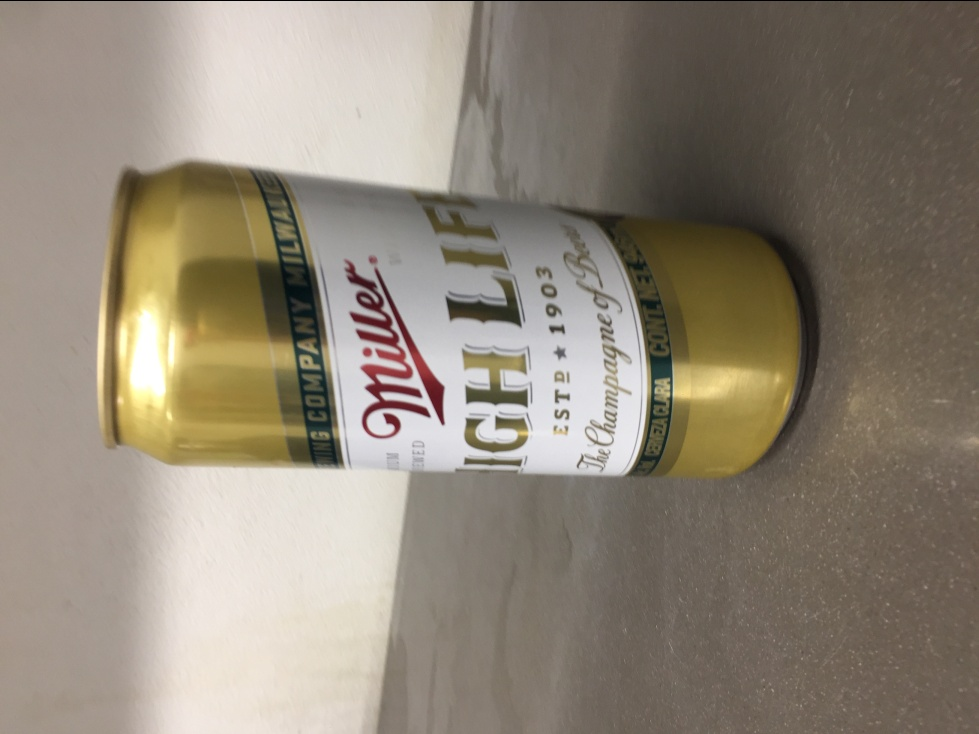miller: (91, 155, 814, 485)
